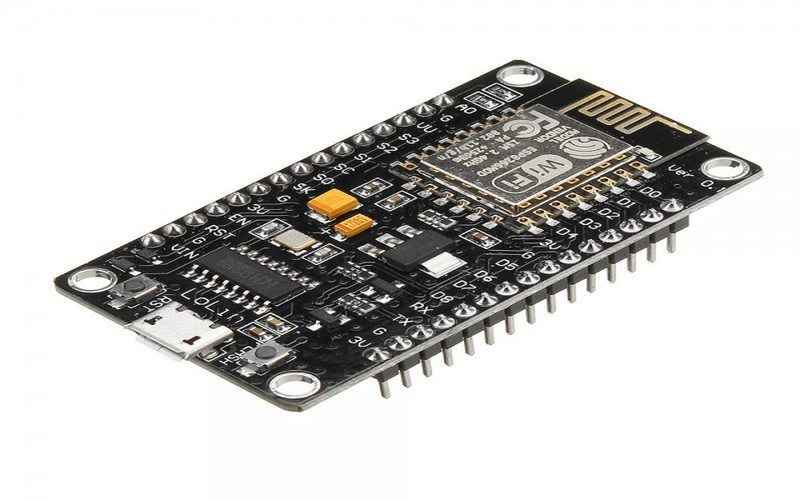IoT Sensor: (48, 36, 771, 419)
